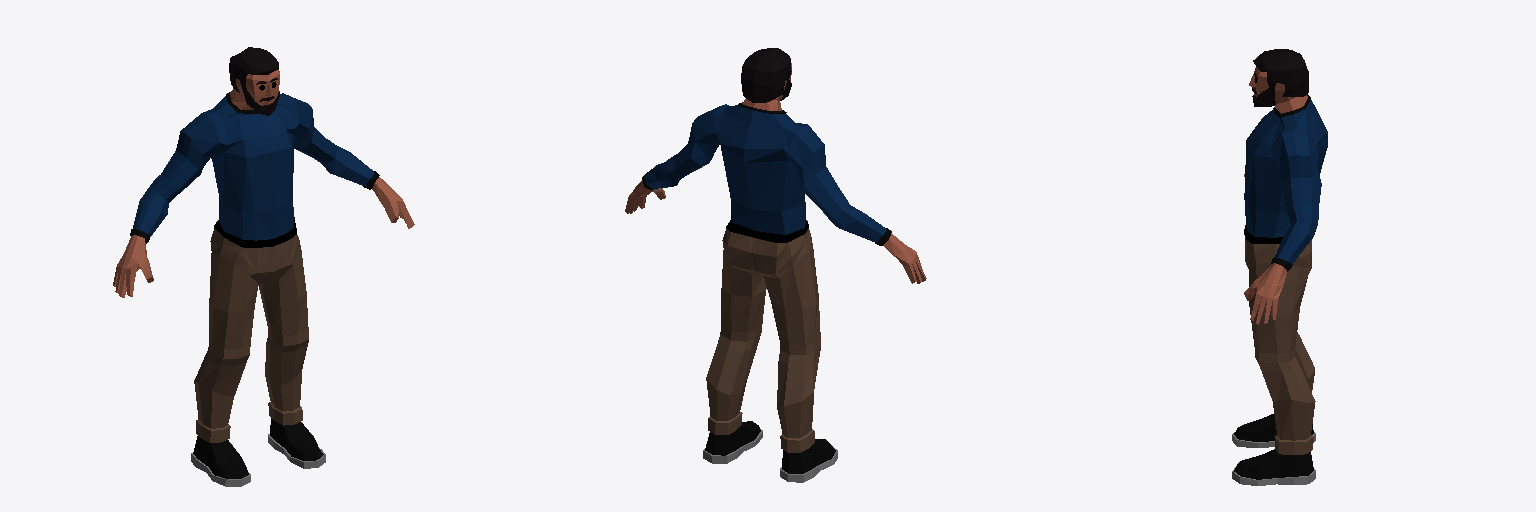
The model's file is man.obj.
3 views of the same model, side by side, from view 1: azimuth 30°, elevation 25°; view 2: azimuth 150°, elevation 25°; view 3: azimuth 270°, elevation 25° (orthographic).
Parts seen in each view (by area): view 1: lowPolyCharacterFace_EXP_Mesh; view 2: lowPolyCharacterFace_EXP_Mesh; view 3: lowPolyCharacterFace_EXP_Mesh.
Part boxes in pixels (bbox=[...]): lowPolyCharacterFace_EXP_Mesh: bbox=[113, 47, 414, 486]; lowPolyCharacterFace_EXP_Mesh: bbox=[625, 48, 926, 482]; lowPolyCharacterFace_EXP_Mesh: bbox=[1232, 49, 1327, 485].
Size of the model in its own units: 1.39 by 1.84 by 0.3922.